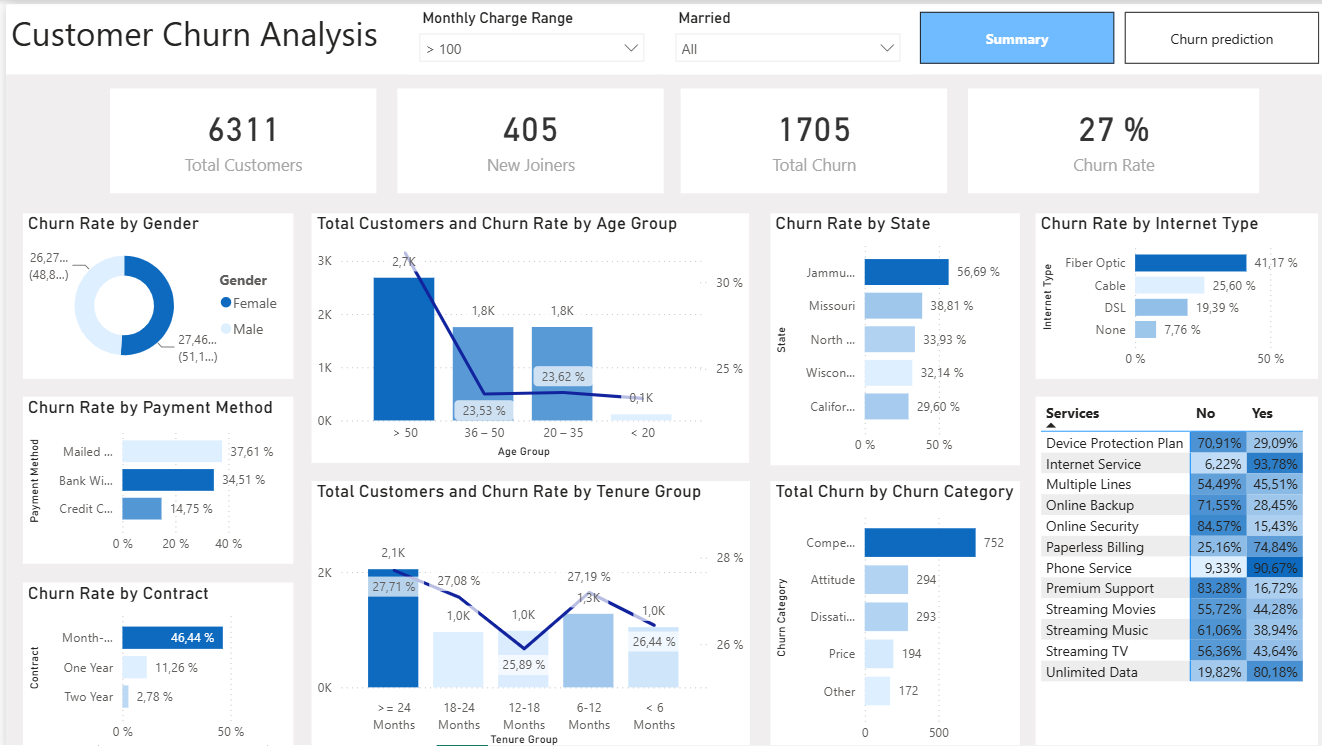

Layout of this report page (visuals, bound fields, positions):
{"tool":"powerbi","page":{"name":"Summary","canvas":[1280,720],"ordinal":0},"visuals":[{"type":"advanceCardE03760C5AB684758B56AA29F9E6C257B","fields":{"mainMeasure":["_mesures.Total Customers"]},"box":[100.5,81.6,256.2,100.5],"z":0},{"type":"advanceCardE03760C5AB684758B56AA29F9E6C257B","fields":{"mainMeasure":["_mesures.New Joiners"]},"box":[376.8,81.6,256.2,100.5],"z":1000},{"type":"advanceCardE03760C5AB684758B56AA29F9E6C257B","fields":{"mainMeasure":["_mesures.Total Churn"]},"box":[649.3,81.6,256.2,100.5],"z":2000},{"type":"advanceCardE03760C5AB684758B56AA29F9E6C257B","fields":{"mainMeasure":["_mesures.Churn Rate"]},"box":[925.6,81.6,280.1,100.5],"z":3000},{"type":"donutChart","fields":{"Category":["prod_Churn.Gender"],"Y":["_mesures.Churn Rate"]},"box":[16.3,200.9,260,159.5],"z":4000},{"type":"lineStackedColumnComboChart","fields":{"Category":["mapping_ageGroup.Age Group"],"Y":["_mesures.Total Customers"],"Y2":["_mesures.Churn Rate"]},"box":[293.9,200.9,420.7,239.9],"z":5000},{"type":"barChart","fields":{"Category":["prod_Churn.Payment Method"],"Y":["_mesures.Churn Rate"]},"box":[16.3,378,260,160.8],"z":6000},{"type":"barChart","fields":{"Category":["prod_Churn.Contract"],"Y":["_mesures.Churn Rate"]},"box":[16.3,556.4,260,163.3],"z":7000},{"type":"lineStackedColumnComboChart","fields":{"Y2":["_mesures.Churn Rate"],"Y":["_mesures.Total Customers"],"Category":["mapping_tenureGroup.Tenure Group"]},"box":[293.9,458.4,420.7,261.2],"z":8000},{"type":"barChart","fields":{"Y":["_mesures.Churn Rate"],"Category":["prod_Churn.State"]},"box":[734.7,200.9,239.9,242.4],"z":9000},{"type":"barChart","fields":{"Category":["prod_Churn.Churn Category"],"Y":["_mesures.Total Churn"]},"box":[734.7,458.4,239.9,261.2],"z":10000},{"type":"actionButton","box":[0,0,100,40],"z":11000},{"type":"barChart","fields":{"Y":["_mesures.Churn Rate"],"Category":["prod_Churn.Internet Type"]},"box":[989.7,200.9,271.3,159.5],"z":12000},{"type":"pivotTable","fields":{"Rows":["prod_services.Services"],"Columns":["prod_services.Status"],"Values":["Sum(prod_services.Churn Status)"]},"box":[989.7,378,271.3,341.6],"z":13000},{"type":"textbox","box":[0,0,1279.8,67.8],"z":14000},{"type":"slicer","fields":{"Values":["prod_Churn.Monthly Charge Range"]},"box":[388,0,236,68],"z":15000},{"type":"slicer","fields":{"Values":["prod_Churn.Married"]},"box":[633.3,0,236,68],"z":16000},{"type":"pageNavigator","box":[878.7,8,384,50.7],"z":16001}]}

Visuals, with their boxes in screenshot pixels (x1, y1, x2, y2), scaled from the page's 1280x720 canvas onto the 1322x746 screenshot:
advanceCardE03760C5AB684758B56AA29F9E6C257B - _mesures.Total Customers: (left=104, top=85, right=368, bottom=189)
advanceCardE03760C5AB684758B56AA29F9E6C257B - _mesures.New Joiners: (left=389, top=85, right=654, bottom=189)
advanceCardE03760C5AB684758B56AA29F9E6C257B - _mesures.Total Churn: (left=671, top=85, right=935, bottom=189)
advanceCardE03760C5AB684758B56AA29F9E6C257B - _mesures.Churn Rate: (left=956, top=85, right=1245, bottom=189)
donutChart - prod_Churn.Gender x _mesures.Churn Rate: (left=17, top=208, right=285, bottom=373)
lineStackedColumnComboChart - mapping_ageGroup.Age Group x _mesures.Total Customers: (left=304, top=208, right=738, bottom=457)
barChart - prod_Churn.Payment Method x _mesures.Churn Rate: (left=17, top=392, right=285, bottom=558)
barChart - prod_Churn.Contract x _mesures.Churn Rate: (left=17, top=576, right=285, bottom=745)
lineStackedColumnComboChart - _mesures.Churn Rate x _mesures.Total Customers: (left=304, top=475, right=738, bottom=745)
barChart - _mesures.Churn Rate x prod_Churn.State: (left=759, top=208, right=1007, bottom=459)
barChart - prod_Churn.Churn Category x _mesures.Total Churn: (left=759, top=475, right=1007, bottom=745)
actionButton: (left=0, top=0, right=103, bottom=41)
barChart - _mesures.Churn Rate x prod_Churn.Internet Type: (left=1022, top=208, right=1302, bottom=373)
pivotTable - prod_services.Services x prod_services.Status: (left=1022, top=392, right=1302, bottom=745)
textbox: (left=0, top=0, right=1321, bottom=70)
slicer - prod_Churn.Monthly Charge Range: (left=401, top=0, right=644, bottom=70)
slicer - prod_Churn.Married: (left=654, top=0, right=898, bottom=70)
pageNavigator: (left=908, top=8, right=1304, bottom=61)
